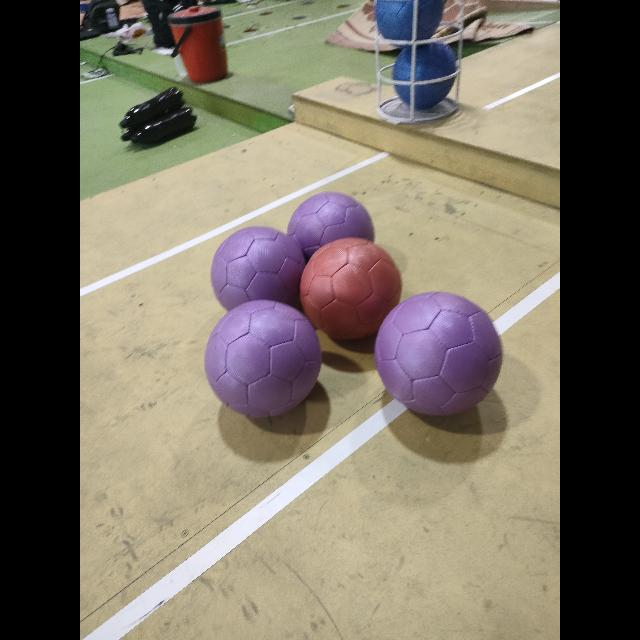B: (392, 39, 456, 110)
P: (374, 292, 502, 414), (205, 300, 322, 418), (209, 225, 307, 322), (287, 192, 373, 258)
R: (300, 238, 402, 338)
S: (366, 0, 460, 130)
